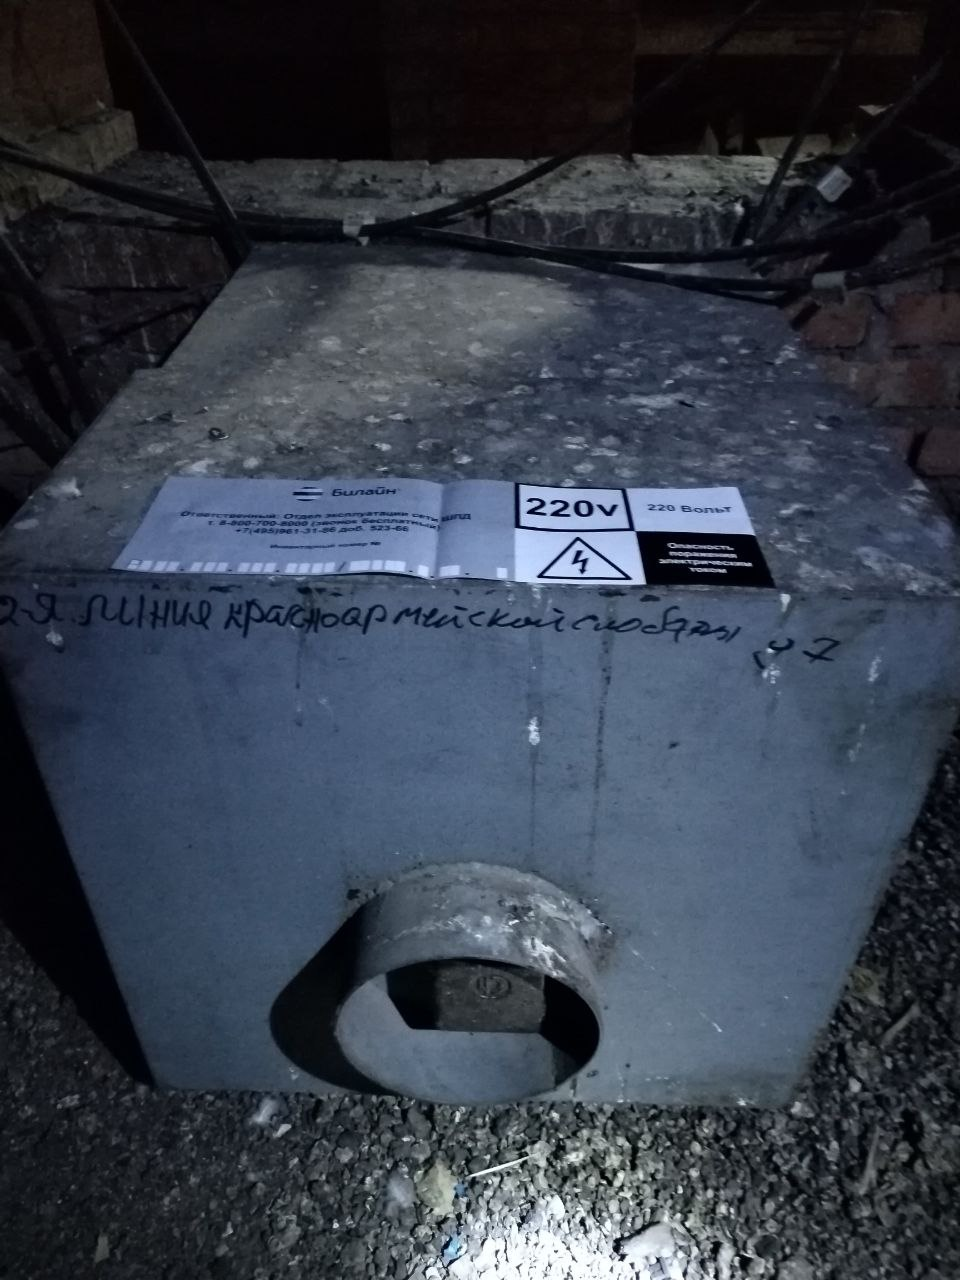shta-9: (3, 252, 957, 1122)
